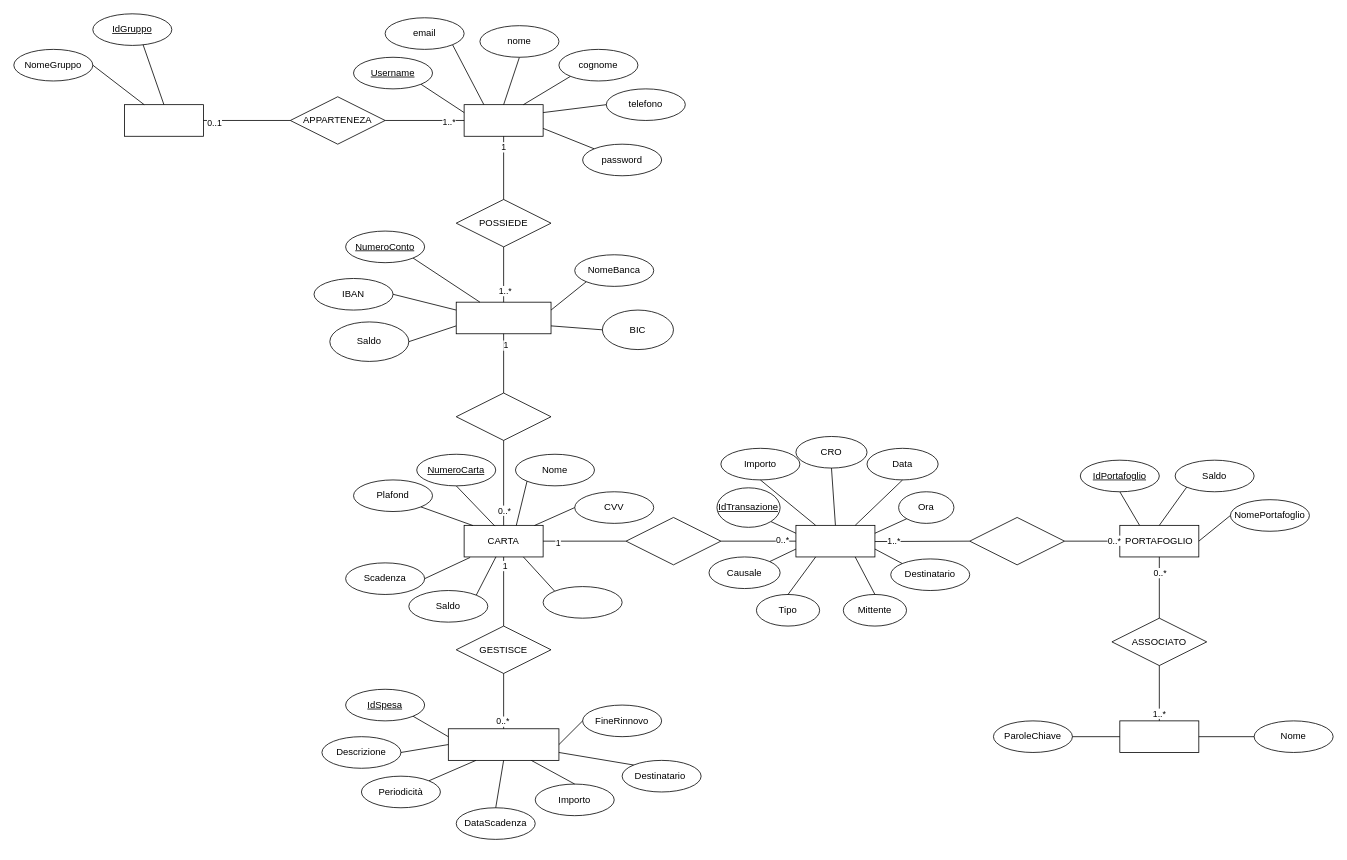
The diagram is 1347 pixels wide and 860 high, and some of its shapes have lost their labels. Each missing label, with the box of its shape:
ASSOCIARE: (455, 392, 551, 440)
CATEGORIA: (1119, 720, 1199, 752)
CONTIENE: (969, 517, 1065, 565)
CONTOCORRENTE: (455, 301, 551, 334)
EFFETTUA: (625, 517, 721, 565)
FAMIGLIA: (124, 104, 203, 136)
SPESEPROGRAMMATE: (448, 728, 559, 760)
TipoCarta: (542, 586, 622, 618)
TRANSAZIONE: (795, 525, 875, 557)
UTENTE: (463, 104, 543, 136)
